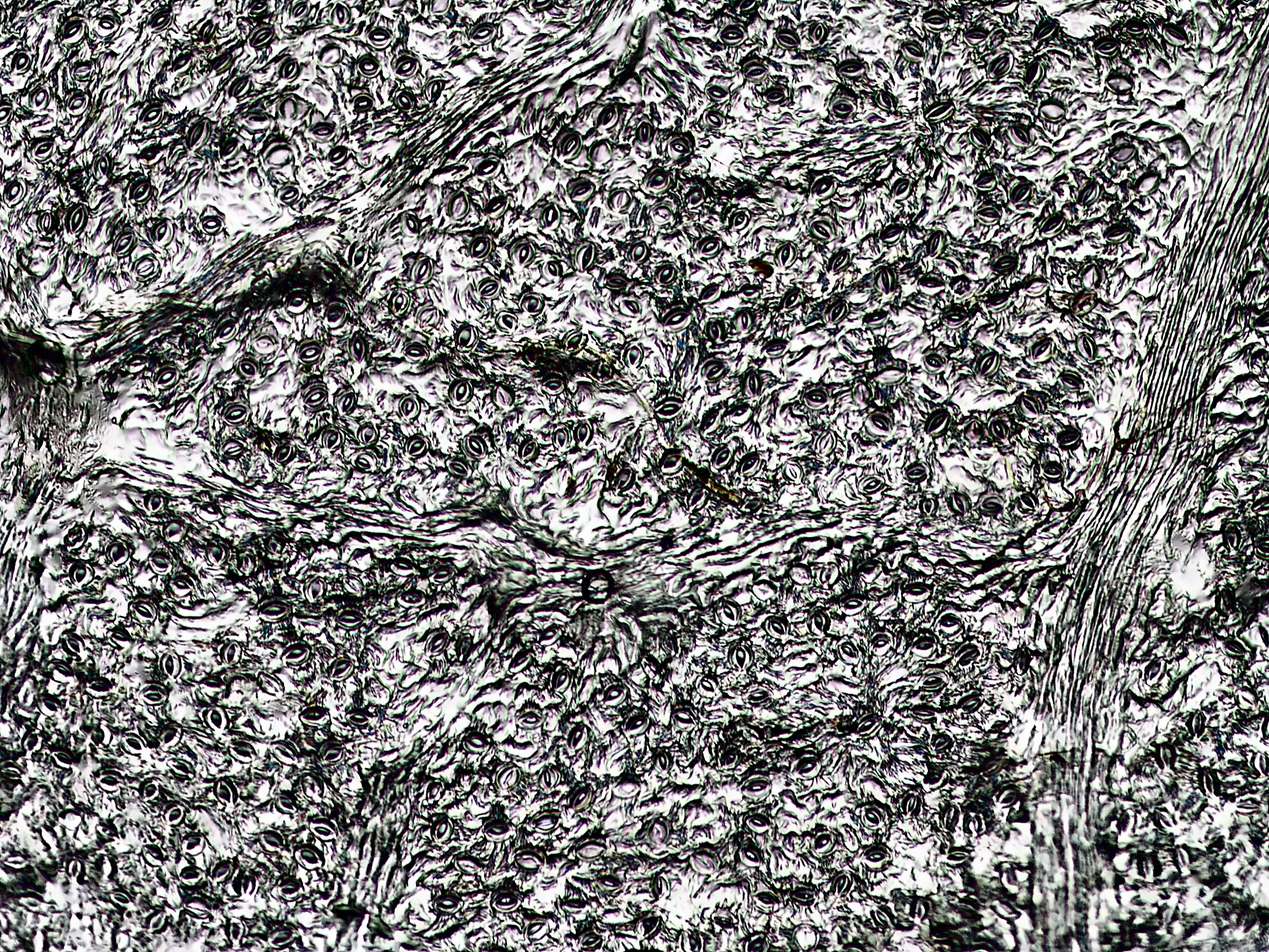stomata: (580, 572, 612, 601), (714, 595, 741, 627), (793, 923, 821, 952), (690, 849, 721, 875), (294, 842, 323, 869), (750, 578, 780, 604), (742, 774, 773, 799), (654, 397, 686, 421), (299, 703, 331, 727), (212, 774, 236, 806), (308, 820, 341, 843), (728, 640, 752, 671), (263, 143, 295, 166), (284, 288, 311, 315), (68, 561, 95, 588), (863, 844, 892, 869), (151, 217, 174, 248), (760, 615, 791, 638), (807, 605, 829, 637), (59, 17, 85, 44), (261, 596, 288, 622), (561, 131, 585, 160), (410, 255, 434, 284), (725, 404, 754, 428), (424, 628, 448, 657), (188, 117, 209, 150), (146, 9, 176, 32), (923, 409, 948, 436), (975, 350, 1000, 377), (635, 916, 662, 941), (978, 750, 1003, 777), (644, 167, 672, 191), (396, 587, 428, 608), (867, 630, 891, 658), (2, 177, 25, 206), (828, 297, 851, 326), (182, 894, 211, 917), (483, 819, 512, 842), (937, 613, 966, 636), (925, 101, 955, 123), (875, 265, 896, 296), (728, 208, 753, 234), (157, 722, 182, 748), (272, 739, 298, 764), (488, 892, 522, 911), (662, 308, 690, 331), (793, 755, 821, 778), (701, 360, 730, 382), (282, 642, 311, 664), (515, 850, 544, 872), (577, 839, 606, 861), (837, 595, 866, 617), (111, 229, 136, 254), (447, 379, 472, 404), (128, 178, 152, 204), (461, 434, 487, 458), (988, 52, 1012, 78), (301, 772, 325, 798), (454, 324, 477, 351), (302, 385, 329, 408), (1078, 179, 1101, 206), (139, 685, 170, 705), (709, 908, 740, 928), (513, 239, 535, 267), (838, 59, 866, 81), (774, 240, 796, 268), (719, 26, 748, 47), (926, 229, 947, 258), (227, 917, 248, 946), (840, 824, 861, 853), (1187, 710, 1208, 739), (577, 241, 596, 273), (590, 140, 614, 165), (51, 659, 76, 683), (856, 712, 880, 737), (815, 560, 839, 585), (493, 382, 516, 408), (562, 328, 585, 354), (829, 249, 852, 275), (160, 653, 183, 679), (37, 693, 63, 716), (304, 576, 327, 602), (236, 871, 259, 897), (276, 878, 302, 901), (137, 144, 164, 166), (352, 451, 379, 473), (873, 367, 906, 385), (204, 706, 226, 733), (463, 730, 490, 752), (671, 708, 698, 730), (739, 846, 766, 868), (745, 683, 772, 705), (1236, 686, 1258, 713), (84, 677, 115, 696), (242, 111, 270, 132), (107, 538, 128, 566), (337, 608, 365, 629), (229, 741, 257, 762), (678, 931, 706, 952), (213, 319, 237, 343), (259, 671, 283, 695), (430, 895, 462, 913), (595, 103, 618, 128), (1041, 216, 1066, 239), (130, 599, 155, 622), (20, 729, 43, 754), (640, 656, 663, 681), (142, 103, 164, 129), (392, 57, 418, 79), (222, 404, 248, 426), (813, 176, 839, 198), (685, 485, 707, 511), (208, 537, 230, 563), (221, 639, 243, 665), (260, 828, 286, 850), (498, 765, 520, 791), (785, 561, 811, 583), (453, 853, 483, 872), (1139, 850, 1158, 880), (550, 422, 571, 449), (899, 42, 926, 63), (866, 415, 893, 436), (537, 764, 558, 791), (92, 154, 112, 182), (295, 342, 323, 362), (1038, 101, 1066, 121), (614, 778, 642, 798), (960, 694, 988, 714), (67, 203, 85, 234), (197, 676, 228, 694), (1224, 522, 1242, 553), (699, 235, 723, 258), (468, 236, 491, 260), (418, 306, 441, 330), (1136, 171, 1160, 194), (148, 551, 172, 574), (95, 819, 119, 842), (309, 122, 338, 141), (542, 201, 561, 230), (449, 190, 468, 219), (252, 334, 281, 353), (1105, 74, 1134, 93), (1025, 59, 1044, 88), (67, 91, 89, 116), (367, 26, 392, 48), (611, 188, 633, 213), (738, 451, 760, 476), (857, 558, 882, 580), (1155, 805, 1177, 830), (330, 2, 351, 28), (539, 373, 565, 394), (917, 273, 943, 294), (783, 459, 804, 485), (56, 808, 82, 829), (432, 817, 453, 843), (753, 891, 779, 912), (912, 636, 938, 657), (880, 225, 907, 245), (742, 369, 762, 396), (595, 874, 625, 892), (903, 582, 930, 602), (1217, 587, 1235, 617), (269, 927, 297, 946), (567, 723, 586, 751), (996, 782, 1019, 805), (523, 342, 545, 366), (1031, 337, 1053, 361), (64, 526, 86, 550), (180, 864, 204, 886), (604, 683, 628, 705), (524, 920, 548, 942), (648, 820, 670, 844), (860, 807, 884, 829), (469, 24, 494, 45), (485, 198, 510, 219), (397, 393, 418, 418), (1073, 290, 1094, 315), (803, 388, 828, 409), (321, 739, 342, 764), (38, 209, 58, 235), (773, 29, 799, 49), (349, 242, 369, 268), (391, 291, 411, 317), (337, 390, 357, 416), (623, 343, 643, 369), (1144, 657, 1164, 683), (198, 217, 225, 236), (628, 240, 647, 267), (1056, 428, 1083, 447), (97, 772, 124, 791), (1172, 845, 1191, 872), (1008, 124, 1030, 147), (1011, 182, 1034, 204), (662, 451, 684, 474), (63, 634, 86, 656), (342, 575, 365, 597), (140, 843, 162, 866), (569, 784, 591, 807), (696, 675, 719, 697), (357, 57, 381, 78), (670, 137, 694, 158), (605, 272, 629, 293), (325, 302, 346, 326), (592, 358, 613, 382), (700, 408, 718, 436), (819, 431, 837, 459), (532, 811, 560, 829), (831, 871, 852, 895), (909, 897, 930, 921), (941, 803, 959, 831), (425, 75, 445, 100), (359, 421, 379, 446), (809, 220, 834, 240), (1077, 334, 1097, 359), (536, 624, 561, 644), (636, 121, 655, 147), (1023, 276, 1049, 295), (1059, 372, 1085, 391), (169, 758, 195, 777), (510, 646, 529, 672), (517, 711, 543, 730), (1252, 749, 1269, 778), (652, 747, 670, 774), (652, 873, 670, 900), (744, 934, 771, 952), (393, 89, 415, 111), (699, 283, 721, 305), (332, 658, 354, 680), (571, 181, 594, 202), (1018, 394, 1039, 417), (275, 792, 296, 815), (956, 643, 979, 664), (95, 16, 119, 36), (124, 353, 148, 373), (407, 435, 427, 459), (1034, 20, 1058, 40), (1096, 38, 1120, 58), (1162, 24, 1186, 44), (108, 628, 132, 648), (165, 803, 185, 827), (625, 715, 649, 735), (814, 831, 834, 855), (1200, 767, 1216, 797), (350, 333, 367, 361), (941, 309, 969, 326), (616, 466, 635, 491), (945, 845, 970, 864), (1116, 810, 1135, 835), (475, 160, 501, 178), (404, 344, 430, 362), (920, 672, 946, 690), (32, 137, 53, 159), (321, 43, 342, 65), (352, 93, 374, 114), (656, 262, 677, 284), (182, 833, 204, 854), (211, 859, 232, 881), (581, 931, 603, 952), (837, 640, 858, 662), (250, 27, 273, 47), (684, 186, 704, 209), (198, 502, 221, 522), (1221, 639, 1244, 659), (985, 292, 1012, 309), (790, 887, 817, 904), (1156, 741, 1173, 768), (31, 85, 50, 109), (744, 61, 768, 80), (324, 426, 343, 450), (1112, 145, 1136, 164), (923, 13, 948, 31), (747, 816, 772, 834), (974, 206, 1000, 223), (736, 309, 753, 335), (3, 852, 29, 869), (650, 203, 671, 224), (522, 293, 543, 314), (923, 769, 944, 790), (231, 76, 251, 98), (156, 367, 176, 389), (876, 90, 898, 110), (164, 521, 186, 541), (124, 733, 144, 755), (278, 185, 301, 204), (477, 278, 500, 297), (222, 439, 245, 458), (519, 438, 538, 461), (861, 475, 884, 494), (147, 908, 166, 931), (278, 95, 296, 119), (763, 339, 787, 357), (575, 421, 592, 446), (913, 145, 930, 170), (992, 254, 1017, 271), (0, 765, 25, 782), (901, 792, 918, 817), (172, 55, 193, 75), (136, 256, 157, 276), (146, 491, 167, 511), (14, 52, 33, 74), (923, 354, 945, 373), (966, 812, 985, 834), (707, 320, 725, 343), (965, 420, 983, 443), (1236, 797, 1259, 815), (540, 111, 557, 135), (865, 310, 889, 327), (713, 446, 730, 470), (239, 551, 256, 575), (428, 0, 453, 16), (70, 59, 91, 78), (1019, 493, 1038, 514), (719, 747, 738, 768), (873, 907, 892, 928), (281, 58, 299, 80), (51, 749, 73, 767), (110, 888, 132, 906), (705, 84, 728, 101), (1123, 19, 1146, 36), (432, 566, 455, 583), (64, 856, 81, 879), (855, 379, 870, 405), (181, 331, 197, 355), (978, 494, 1002, 510), (390, 557, 414, 573), (212, 54, 232, 73), (543, 259, 562, 279), (498, 312, 517, 332), (238, 358, 257, 378), (970, 127, 989, 147), (170, 575, 189, 595), (264, 534, 283, 554), (1249, 310, 1269, 329), (621, 296, 639, 317), (1251, 496, 1269, 517), (993, 0, 1018, 15), (912, 703, 937, 718), (200, 21, 217, 43), (1043, 463, 1065, 480), (951, 491, 968, 513), (811, 21, 827, 44), (1105, 224, 1128, 240), (562, 897, 585, 913), (782, 291, 801, 310), (220, 138, 238, 158), (276, 443, 294, 463), (447, 458, 467, 476), (966, 29, 987, 46), (832, 100, 854, 116), (974, 173, 996, 189), (553, 670, 569, 692), (330, 148, 349, 166), (875, 160, 893, 179), (248, 0, 269, 16), (703, 111, 724, 127), (893, 179, 909, 200), (990, 419, 1006, 440), (527, 0, 557, 11), (403, 213, 418, 235), (906, 463, 925, 480), (142, 778, 158, 798), (766, 88, 787, 103), (1254, 538, 1269, 559), (738, 283, 757, 299), (428, 779, 443, 799), (930, 732, 950, 747), (1082, 262, 1097, 281), (990, 28, 1004, 48), (0, 103, 12, 126), (292, 1, 309, 17), (924, 497, 936, 515), (739, 0, 756, 11)
